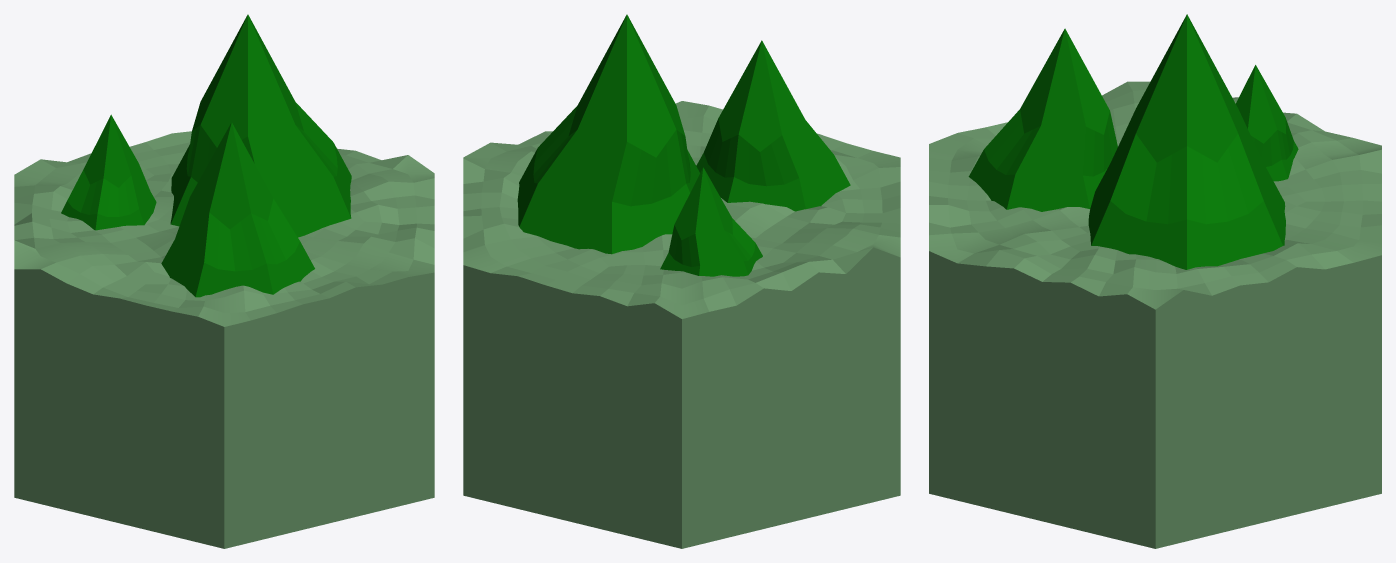
File: forest.fbx
The picture shows the model from 3 angles, left to right: view 1: azimuth 30°, elevation 25°; view 2: azimuth 150°, elevation 25°; view 3: azimuth 270°, elevation 25°; orthographic projection. The views are drawn at different scales.
Parts seen in each view (by area): view 1: Forrest; view 2: Forrest; view 3: Forrest.
Boxes of the visible parts, x1,y1,x2,y2 form: Forrest: (14,14,434,548); Forrest: (463,14,900,548); Forrest: (929,14,1381,548).
Bounding box in the file's own units: 2 × 1.88 × 1.73.
